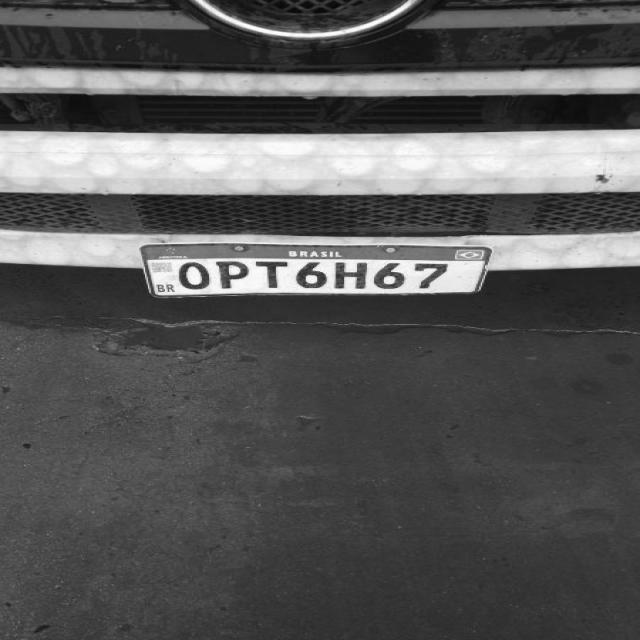placa_mercosul: (141, 243, 490, 297)
